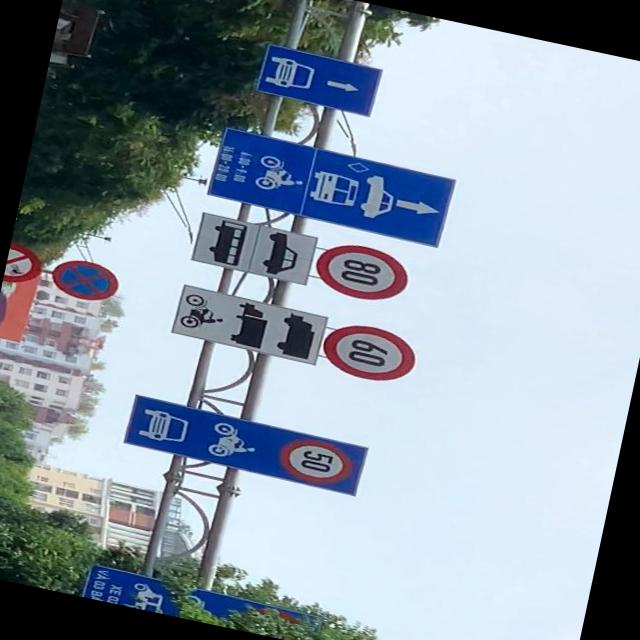P-127: (316, 316, 420, 390), (311, 236, 411, 306)
P-130: (46, 253, 122, 306)
